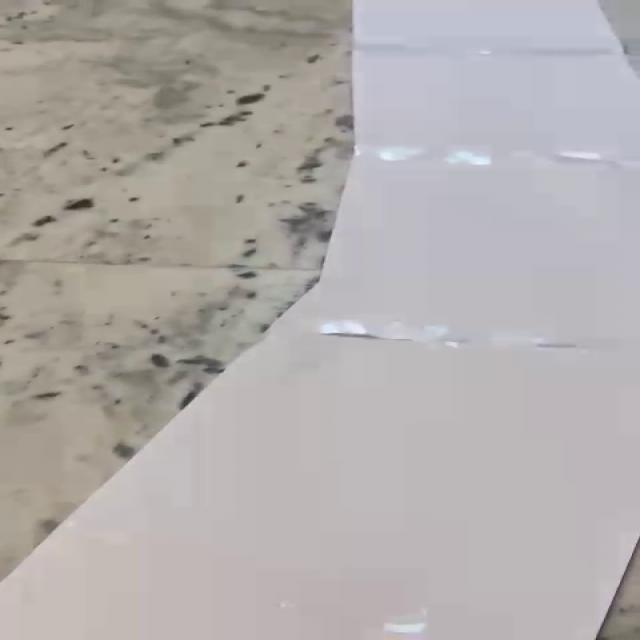road: (0, 0, 640, 640)
